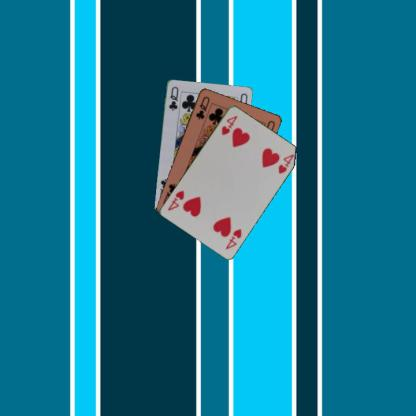4h: (223, 226, 243, 250), (218, 113, 238, 136)
Qc: (193, 93, 211, 120), (166, 84, 180, 111)
